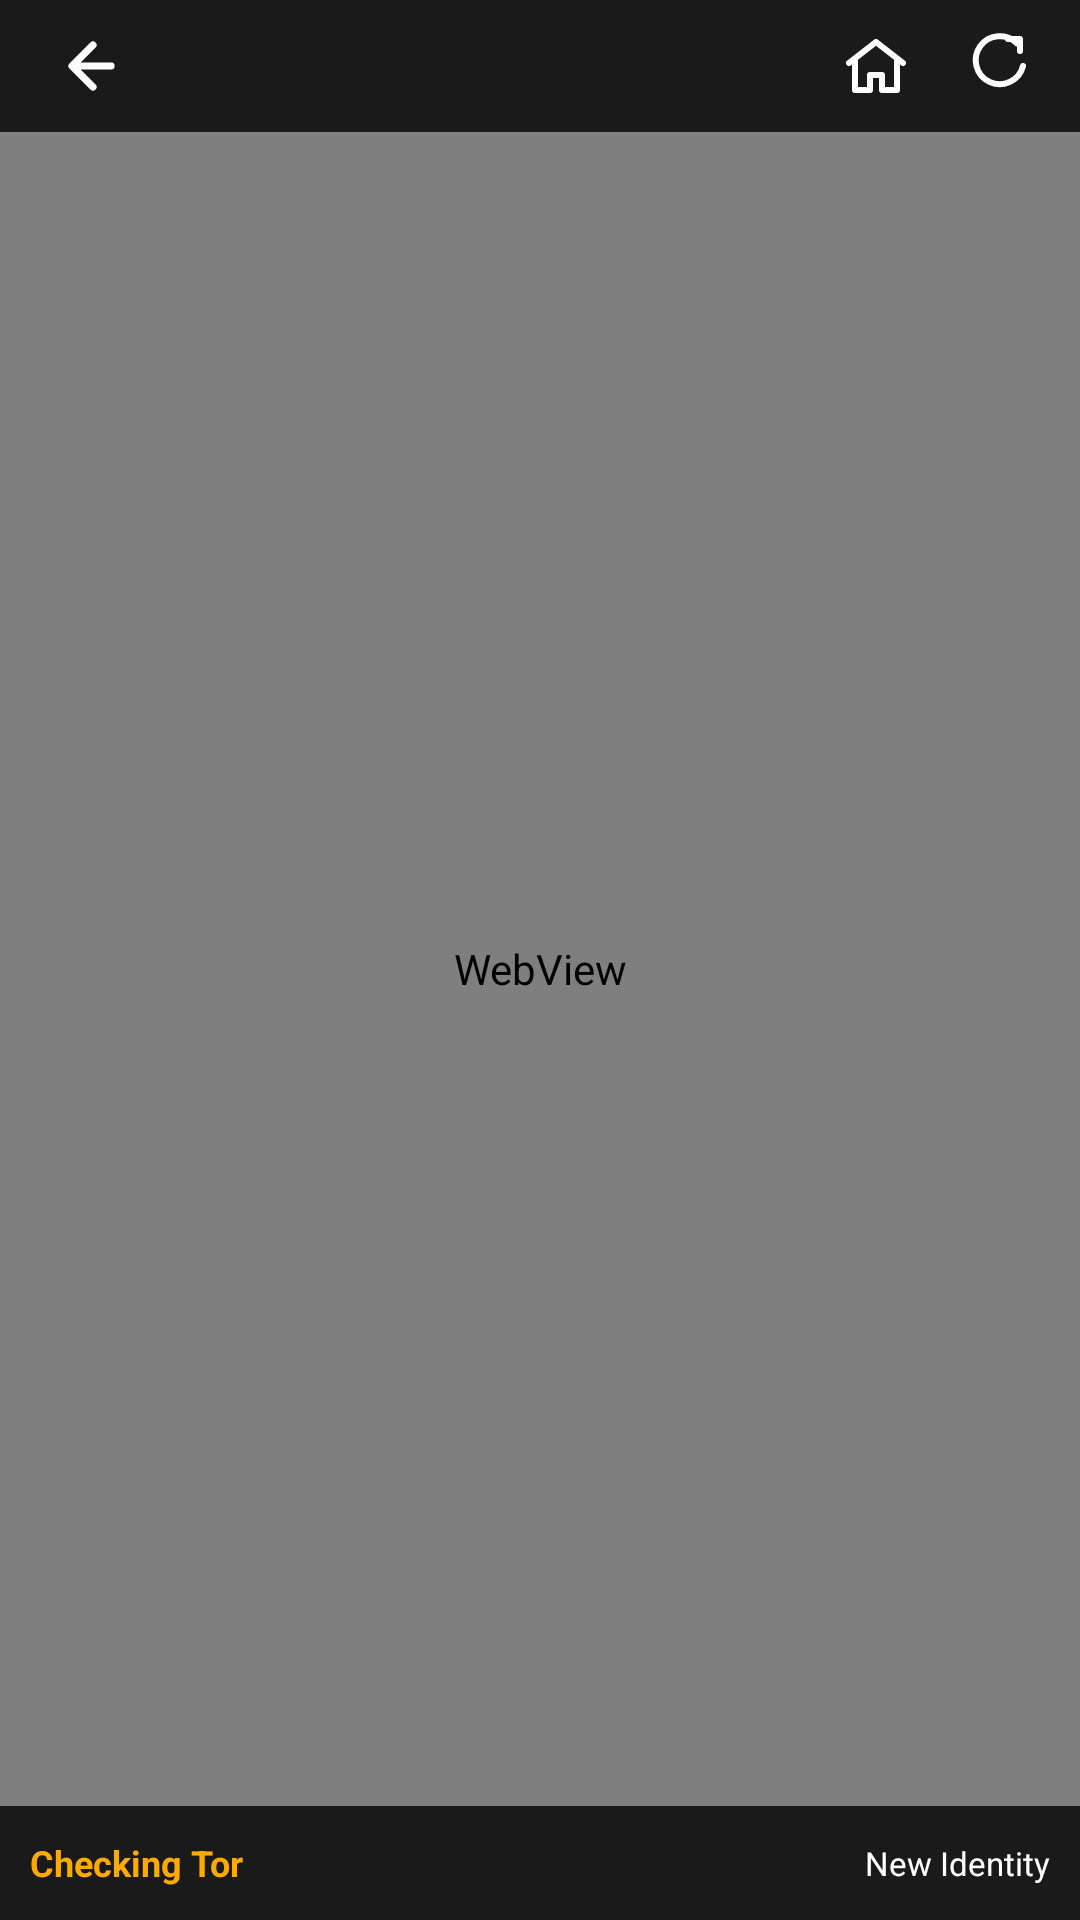

Point at icon controls on the screen. Image size 1080*1920, points as (x,y).
Back: (91,66)
Home: (875,66)
